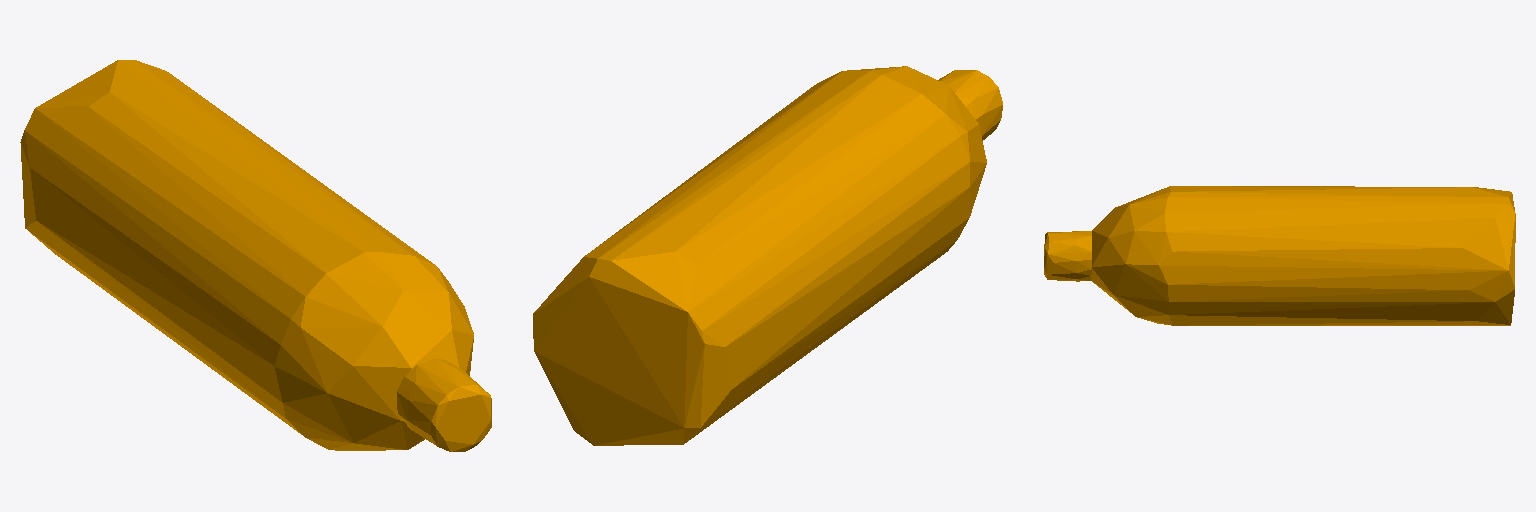
URDF robot description (obj):
<?xml version="1.0" ?>
<robot name="obj">
  <link name="baseLink">
    <contact>
      <friction_anchor/>
      <lateral_friction value="10.0"/>
      <rolling_friction value="10.0"/>
    </contact>
    <inertial>
      <origin rpy="0 0 0" xyz="0 0 0"/>
      <mass value="0.1"/>
      <inertia ixx="1" ixy="0" ixz="0" iyy="1" iyz="0" izz="1"/>
    </inertial>
    <visual>
      <origin rpy="1.57 0 0" xyz="0 -0.02 0"/>
      <geometry>
        <mesh filename="bottle2.obj" scale="0.15 0.15 0.15"/>
      </geometry>
    </visual>
    <collision>
      <origin rpy="1.57 0 0" xyz="0 -0.02 0"/>
      <geometry>
        <mesh filename="bottle2.obj" scale="0.15 0.15 0.15"/>
      </geometry>
    </collision>
  </link>
</robot>

--- Facts derived from the render (not from the file) ---
Views: 3 orthographic renders of the robot side by side, from view 1: azimuth 30°, elevation 25°; view 2: azimuth 150°, elevation 25°; view 3: azimuth 270°, elevation 25°.
Model obj with 1 links and 0 joints (none), rooted at baseLink, posed every joint at zero.
Links seen in each view (by area): view 1: baseLink; view 2: baseLink; view 3: baseLink.
Link boxes in pixels (left/top/right/bottom): baseLink: left=20, top=60, right=491, bottom=451; baseLink: left=533, top=66, right=1002, bottom=445; baseLink: left=1044, top=186, right=1515, bottom=325.
Bounding box of the posed robot: 0.045 × 0.152 × 0.045 m (x, y, z).
1 mesh visuals loaded from 1 distinct referenced files (1 OBJ).